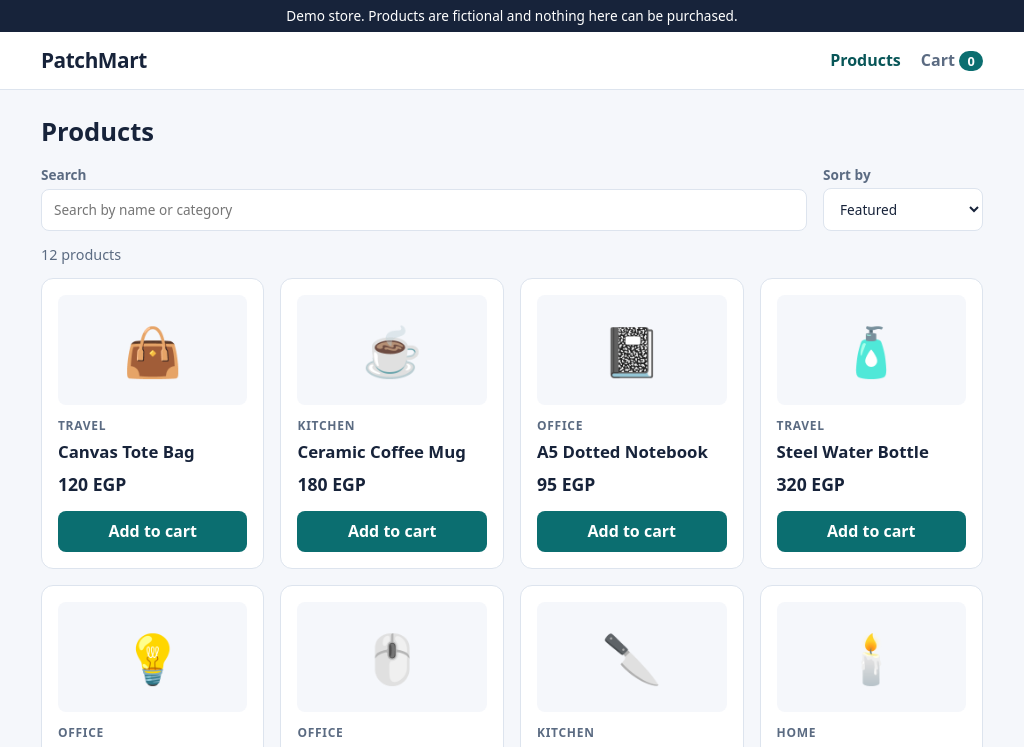
it: products page › shows a message when nothing matches
Type "umbrella" into the search field labelled "Search". click: [424, 210]
box: [41,189,807,231]
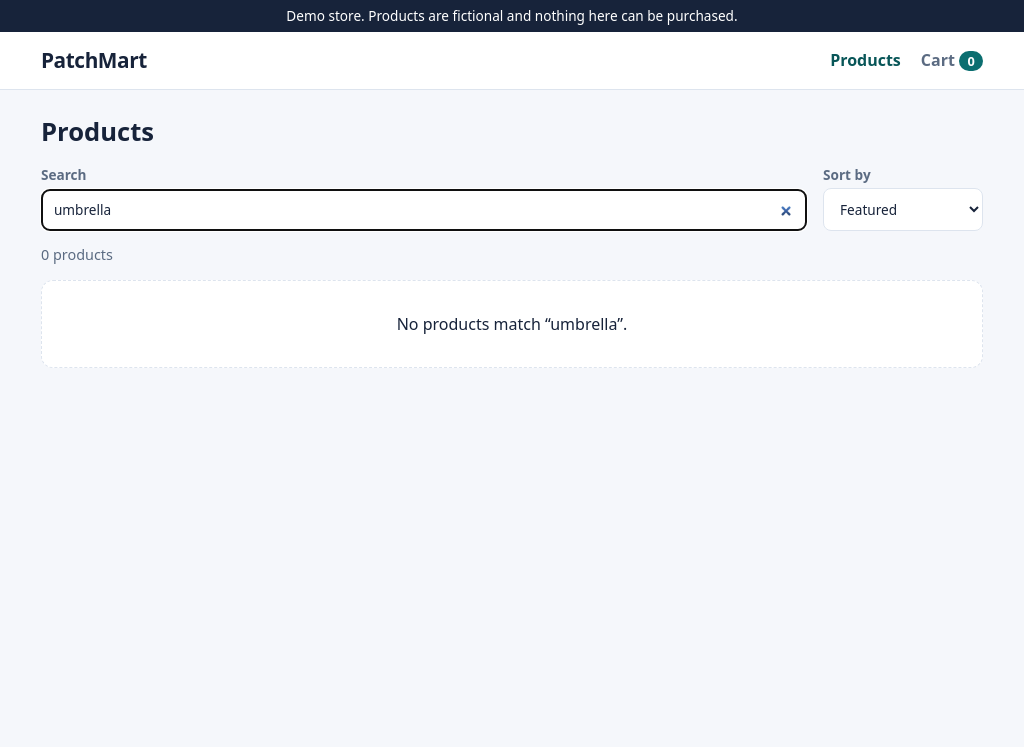
Check: the text "No products match “umbrella”." is shown, box [41,280,983,368]
